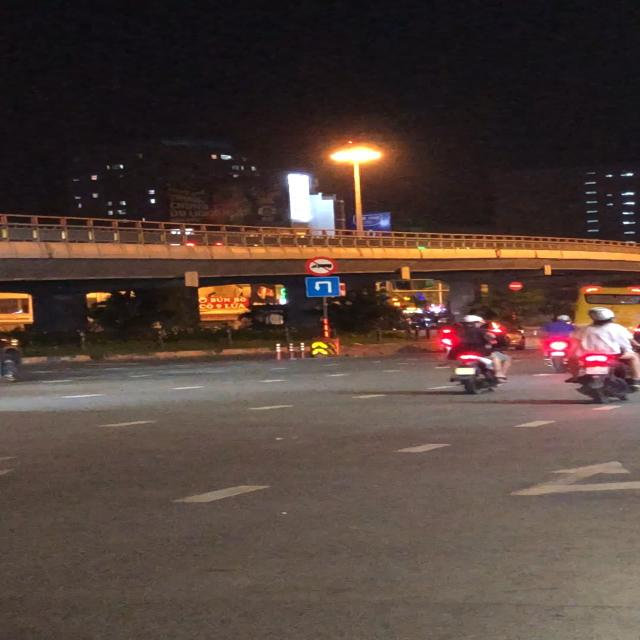Bien bao cam xe so-mi ro-mooc: (304, 255, 338, 276)
